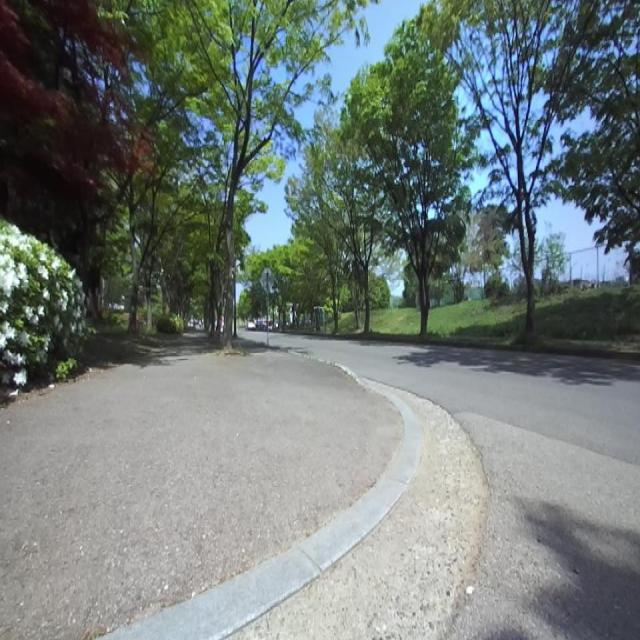sidewalk: (0, 337, 403, 639)
